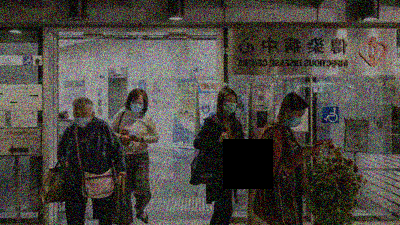with_mask: (73, 108, 90, 130), (221, 95, 238, 115), (289, 111, 305, 128), (130, 98, 144, 114)
